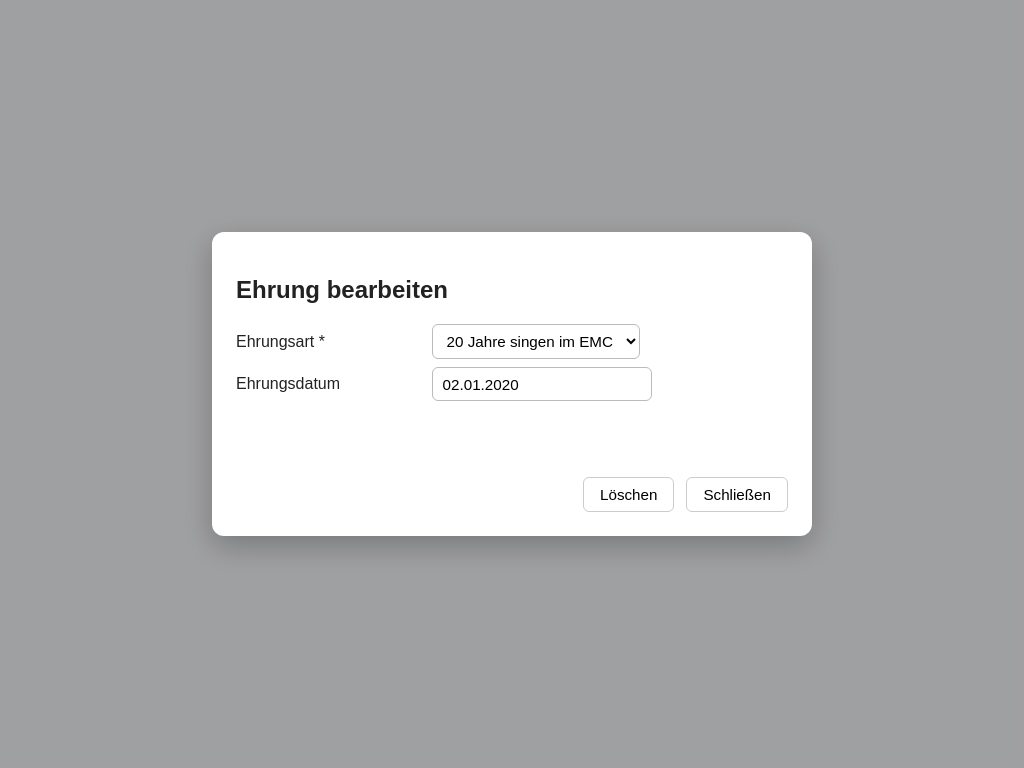
it: MemberHonorEditDialog – AutoSave und Schließen › fragt beim Schließen mit ungültigem Datum nach dem Verwerfen und behält bei Nein die Eingabe
Replace the text in the field labelled "Ehrungsdatum" with "31.02.2026": (542, 384) [432,367,652,401]
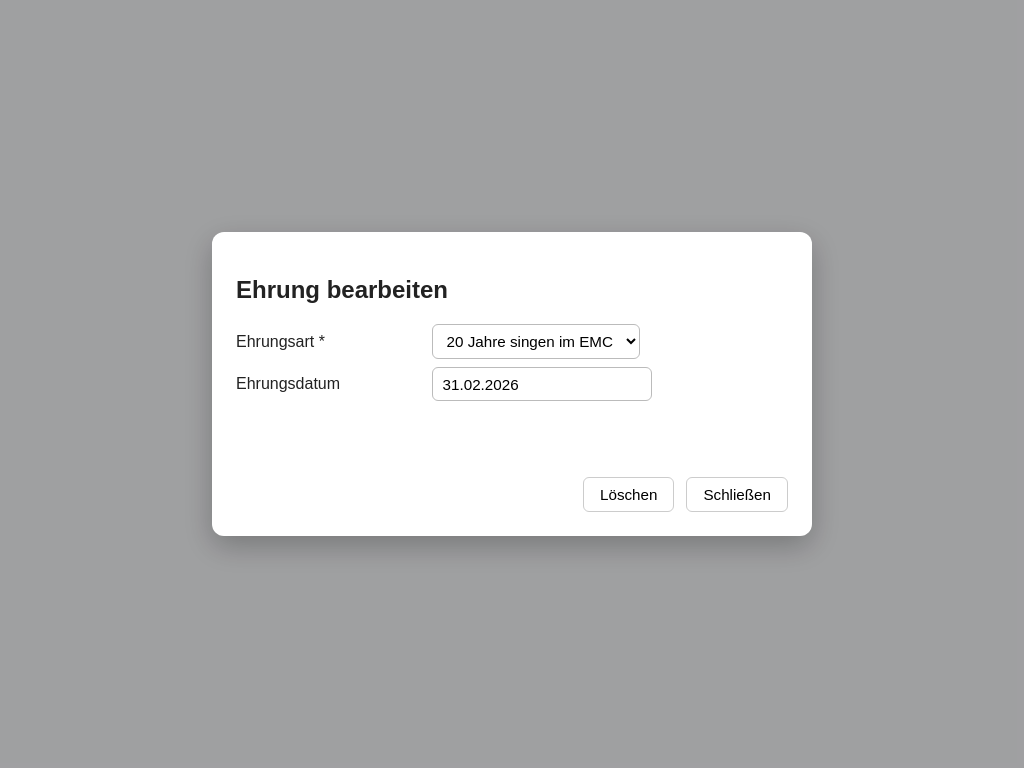
Click the button "Schließen": click(737, 494) [686,477,788,512]
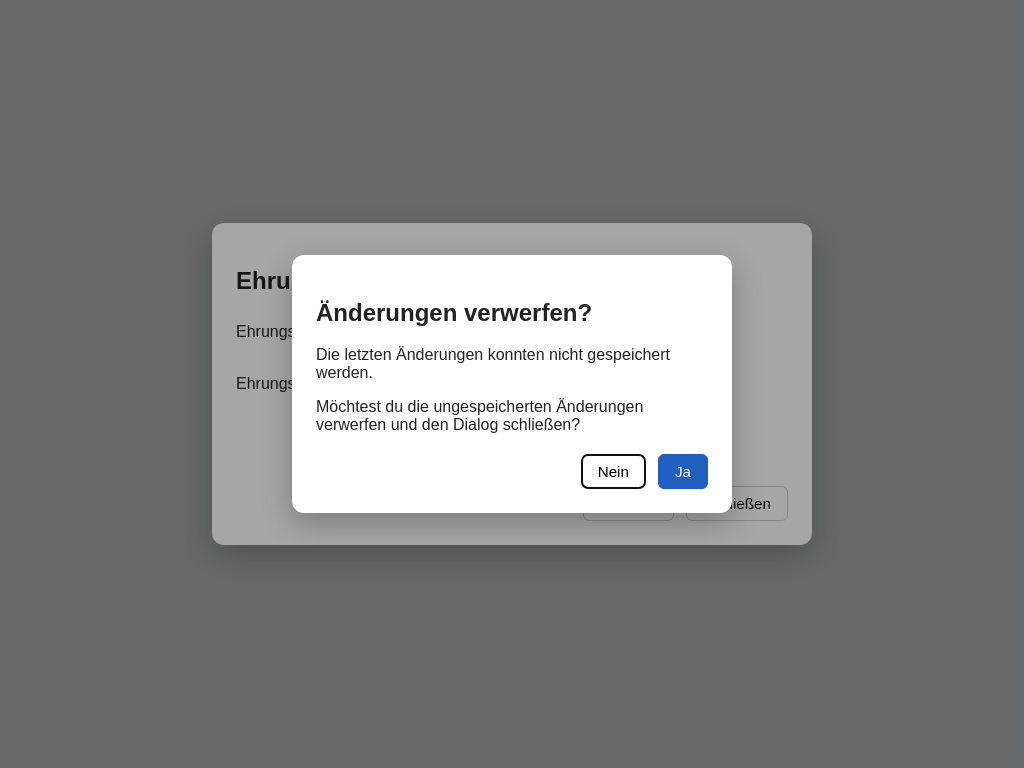
Click the button "Nein": click(613, 472) [581,454,646,489]
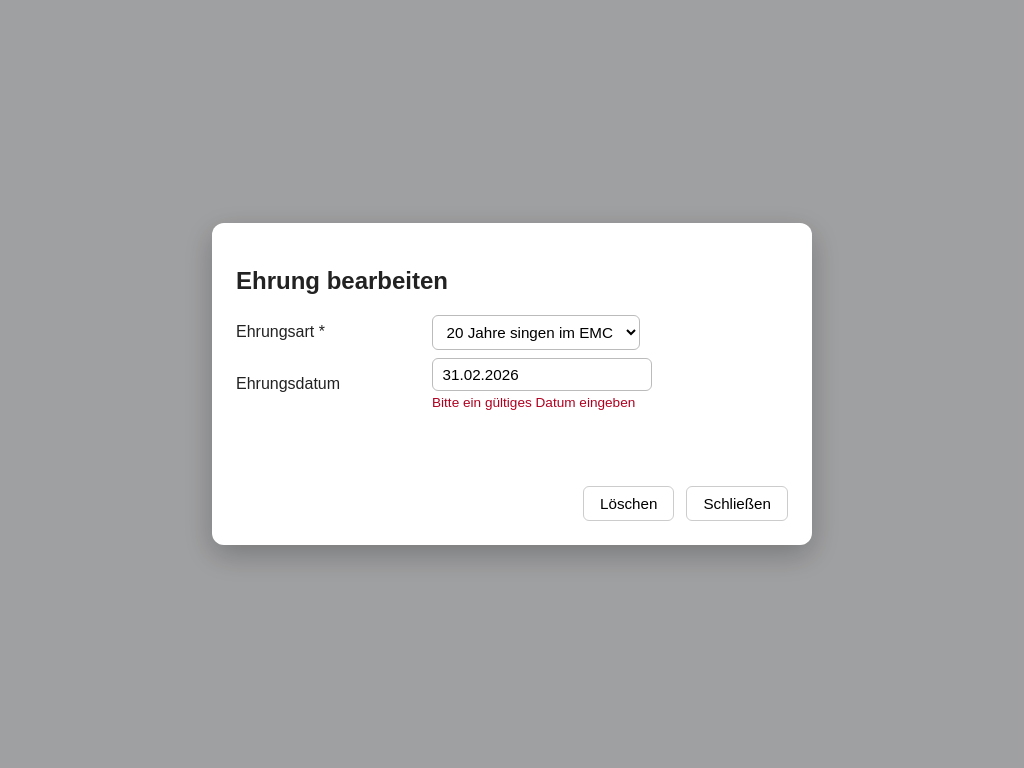
Now the heading "Änderungen verwerfen?" is gone
